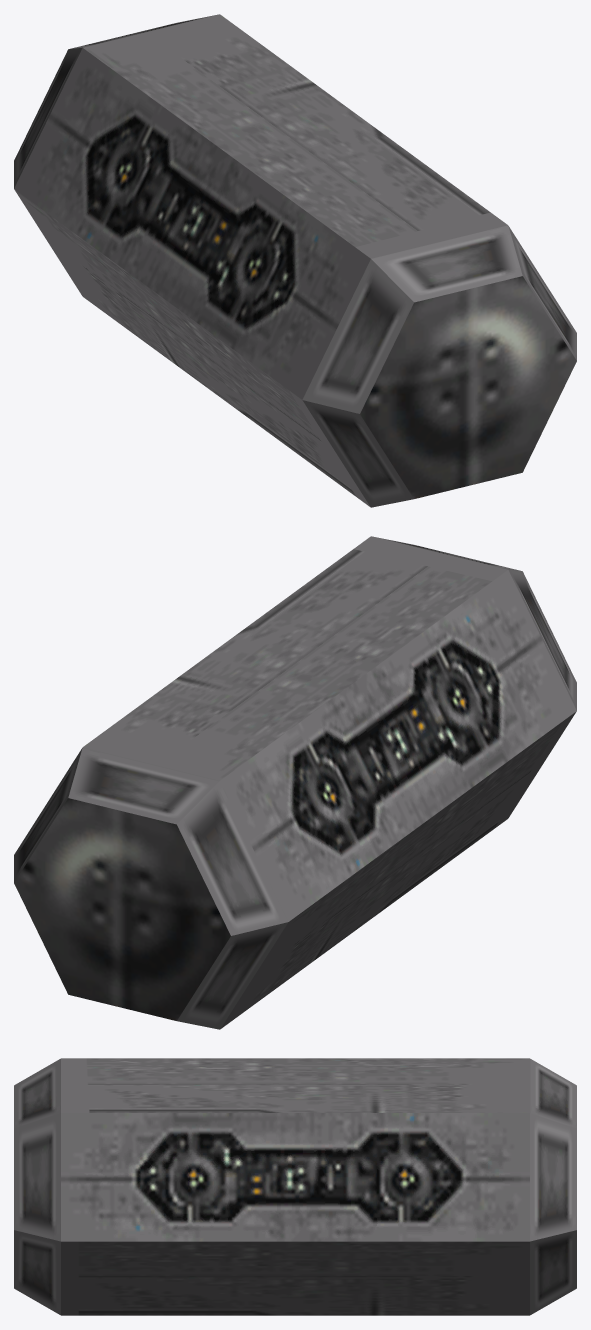
Rendered from brain.obj.
3 renders of one model, top to bottom at view 1: azimuth 30°, elevation 25°; view 2: azimuth 150°, elevation 25°; view 3: azimuth 270°, elevation 25°, orthographic. The views are drawn at different scales.
Visible parts, largest first — view 1: SMO_dock_sides_2, suprt, kCap, smo_mothership_ribs; view 2: SMO_dock_sides_2, suprt, kCap, smo_mothership_ribs; view 3: SMO_dock_sides_2, suprt, smo_mothership_ribs.
Boxes of the visible parts, box(x1,y1,x2,y2) form: SMO_dock_sides_2: box(14, 14, 507, 507); suprt: box(14, 48, 370, 399); kCap: box(360, 276, 576, 498); smo_mothership_ribs: box(14, 14, 576, 507); SMO_dock_sides_2: box(83, 536, 576, 1029); suprt: box(220, 570, 576, 921); kCap: box(14, 798, 230, 1020); smo_mothership_ribs: box(14, 536, 576, 1029); SMO_dock_sides_2: box(61, 1058, 529, 1315); suprt: box(61, 1113, 529, 1241); smo_mothership_ribs: box(14, 1058, 576, 1315).
Size of the model in its own units: 88 by 76.21 by 192.
